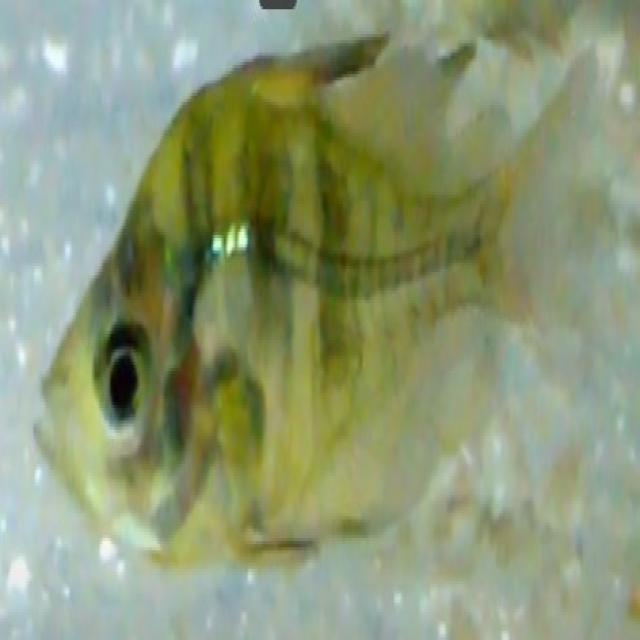Glass-Perchlet: (0, 34, 581, 610)
